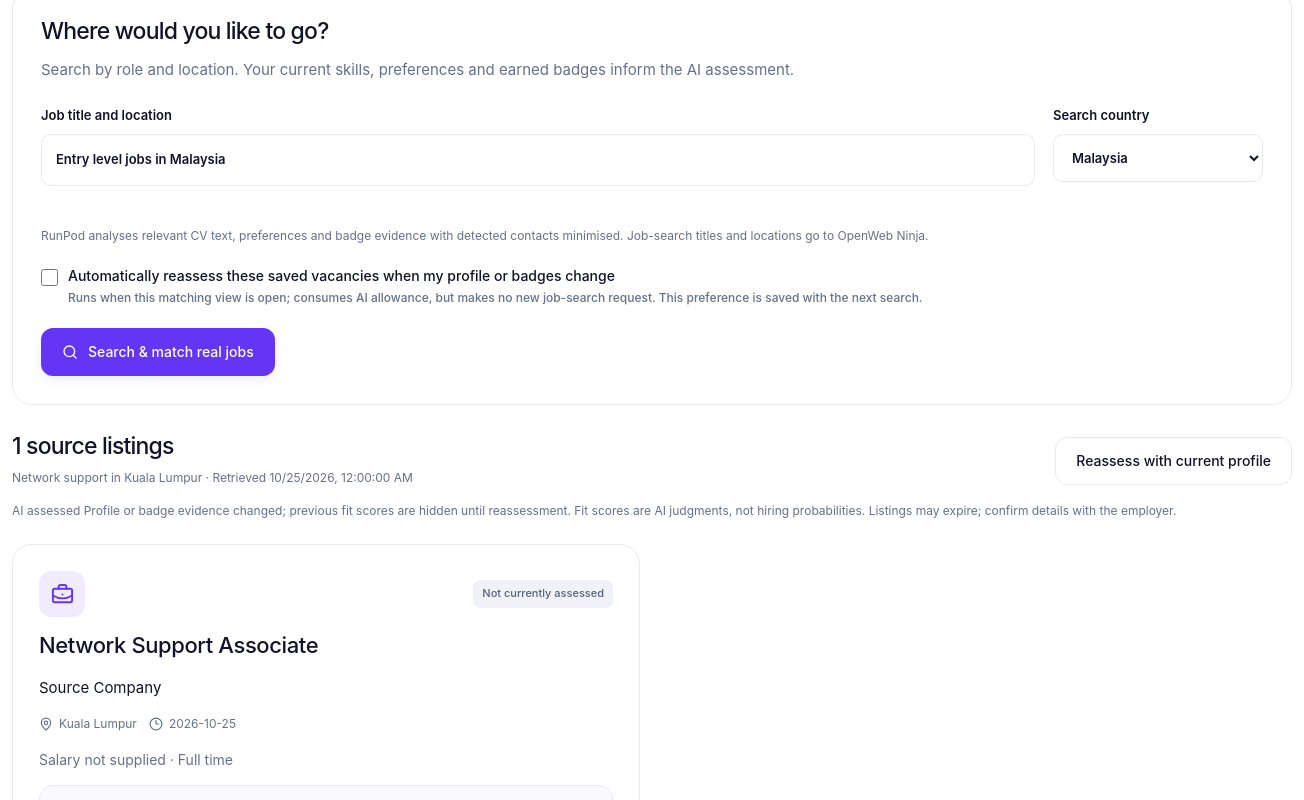
Scenario: hides scores made stale by changed badge evidence until explicit reassessment
(page scrolled)
Expected: the heading "Network Support Associate" is shown, [39, 632, 318, 658]
Expected: the text "Not currently assessed" is shown, [473, 580, 613, 608]
Click the button "Reassess with current profile": click(1174, 461) [1055, 437, 1292, 485]
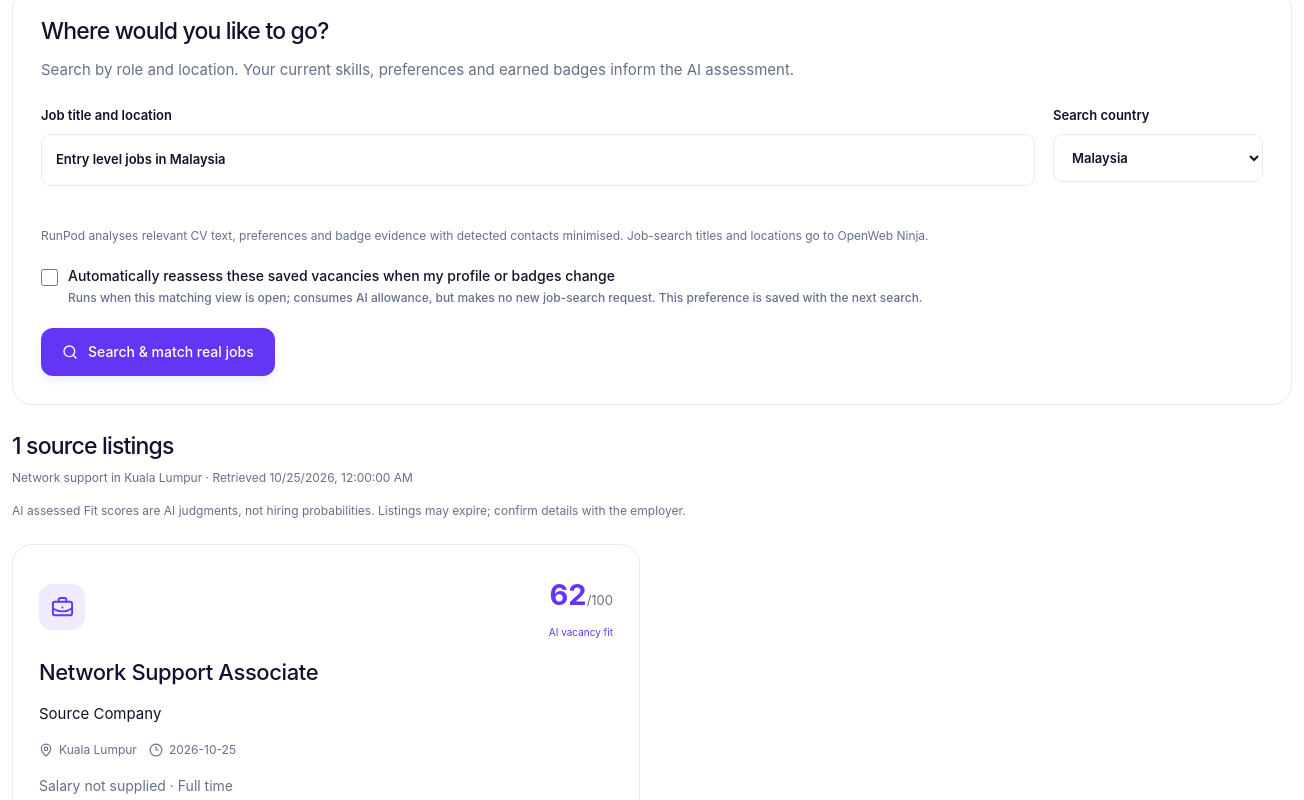
Result: the text "AI vacancy fit" is shown at [549, 626, 613, 638]
